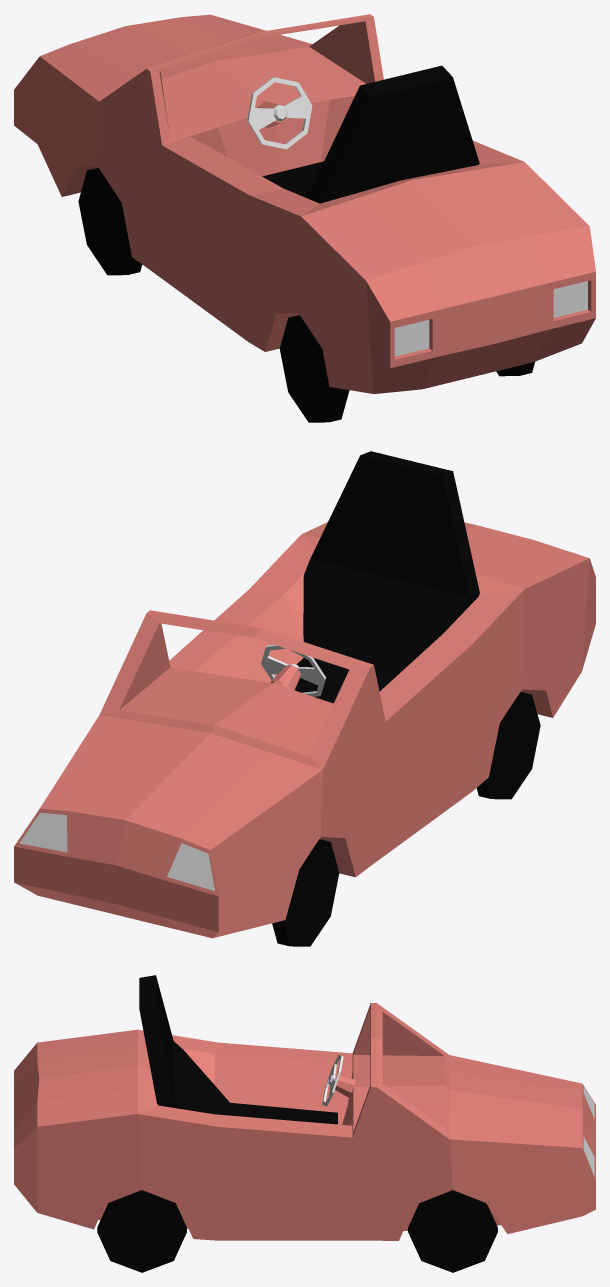
Rendered from Car_1.1.fbx.
The picture shows the model from 3 angles, top to bottom: view 1: azimuth 30°, elevation 25°; view 2: azimuth 150°, elevation 25°; view 3: azimuth 270°, elevation 25°; orthographic projection. The views are drawn at different scales.
Visible parts, largest first — view 1: Cube, Circle.001; view 2: Cube, Circle.001; view 3: Cube, Circle.001.
Part boxes in pixels (left/top/right/bottom): Cube: left=14, top=14, right=595, bottom=422; Circle.001: left=247, top=77, right=312, bottom=149; Cube: left=14, top=451, right=595, bottom=946; Circle.001: left=261, top=644, right=326, bottom=696; Cube: left=14, top=975, right=595, bottom=1272; Circle.001: left=322, top=1055, right=343, bottom=1106.
Bounding box in the file's own units: 200 × 270 × 584.
